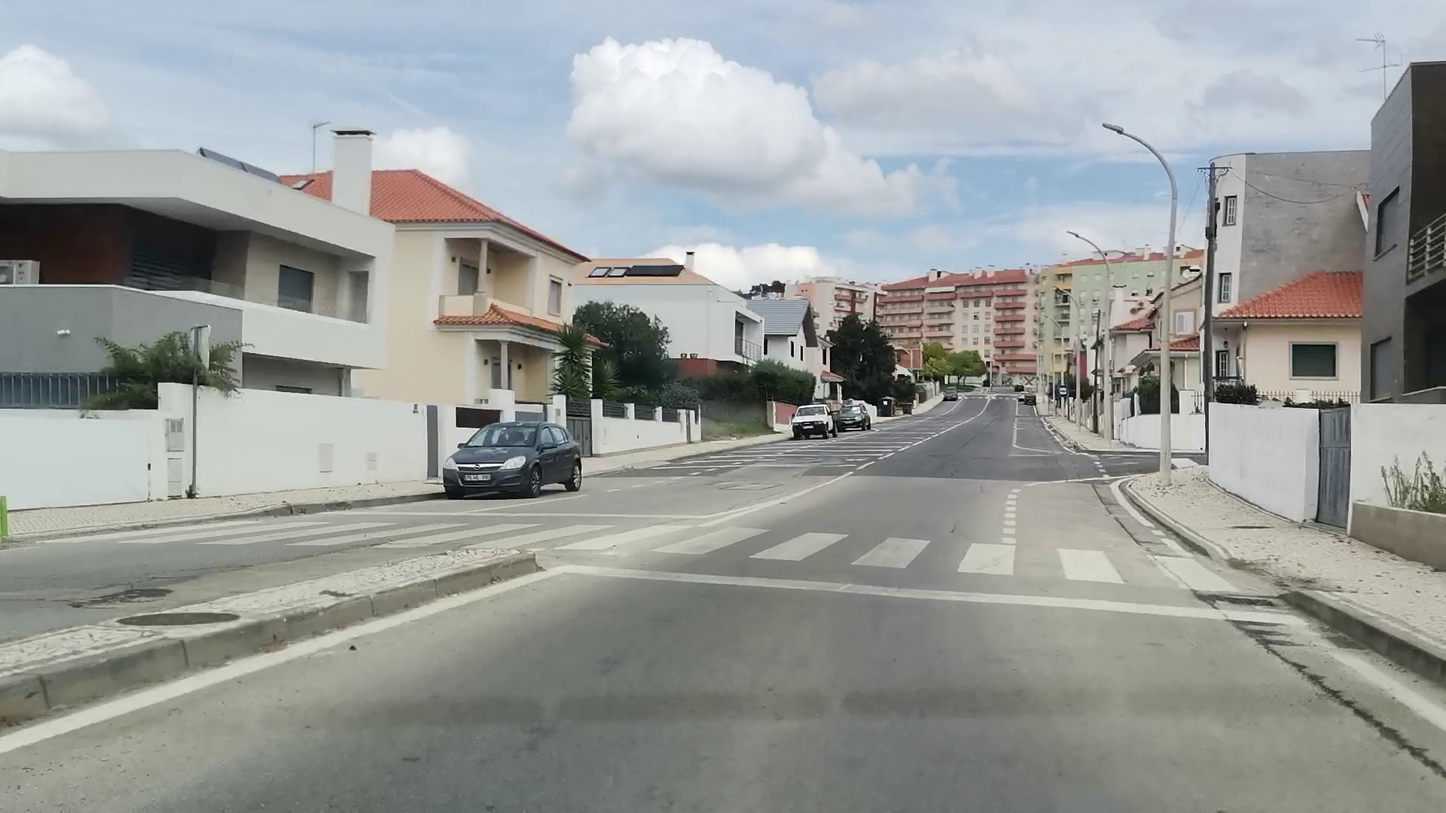Stairs: (75, 511, 1243, 598)
